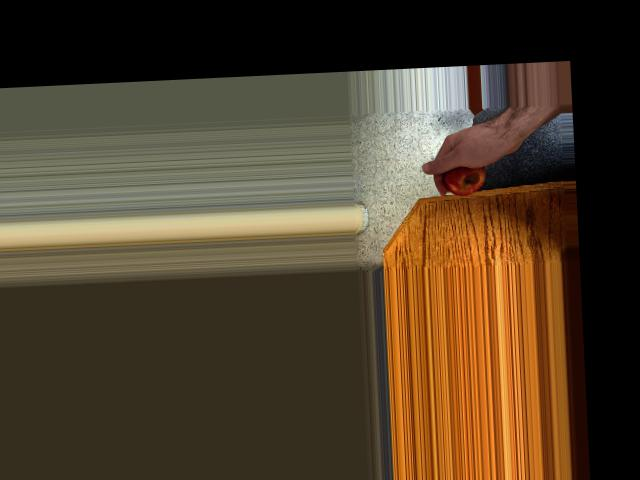apple: (442, 153, 488, 196)
